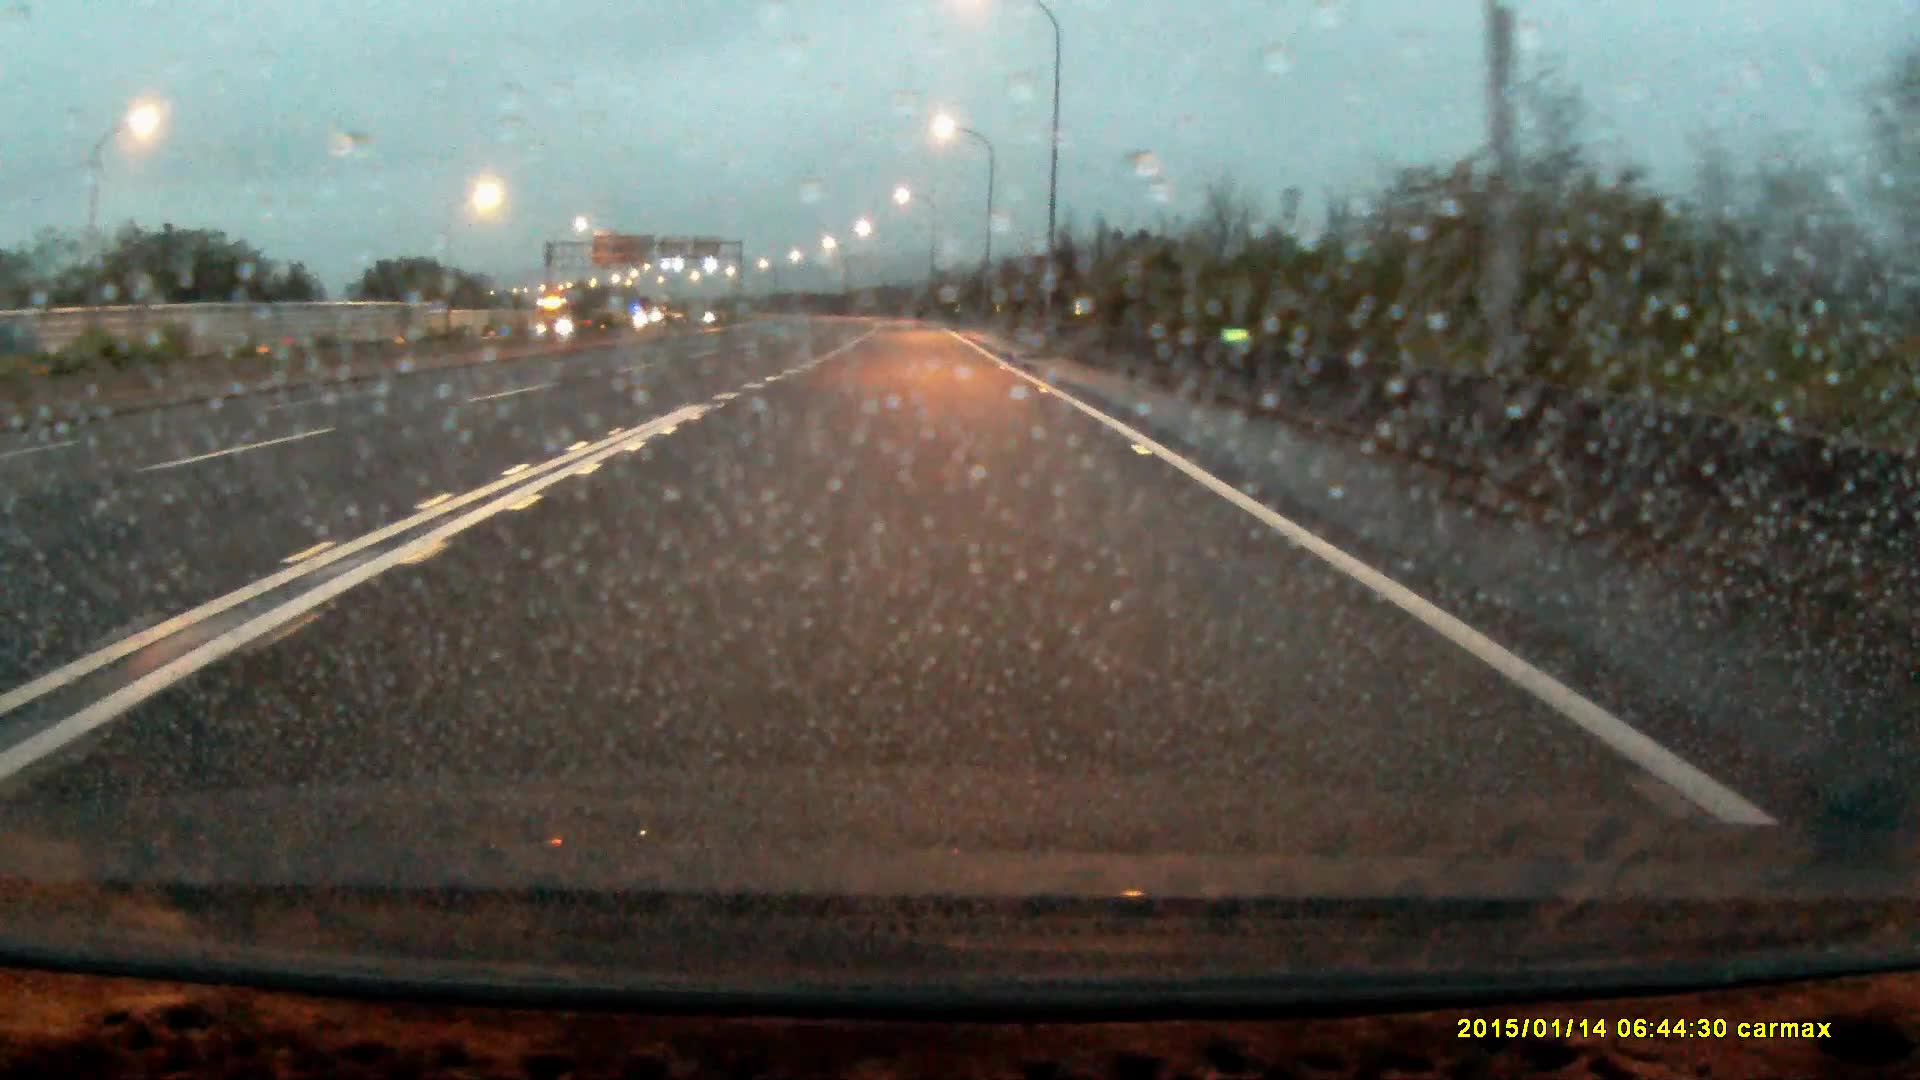vehicle: (533, 295, 593, 347)
